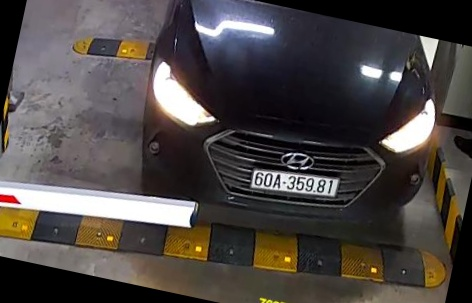plate: (246, 162, 340, 206)
